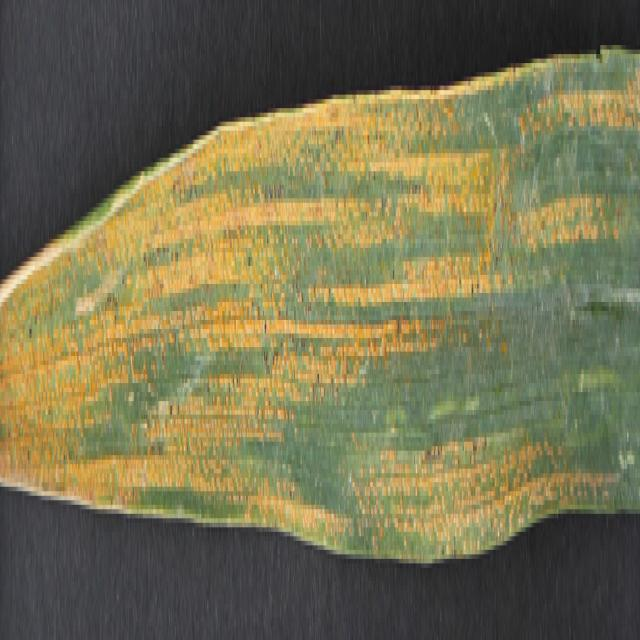leaf rust: (1, 54, 637, 545)
